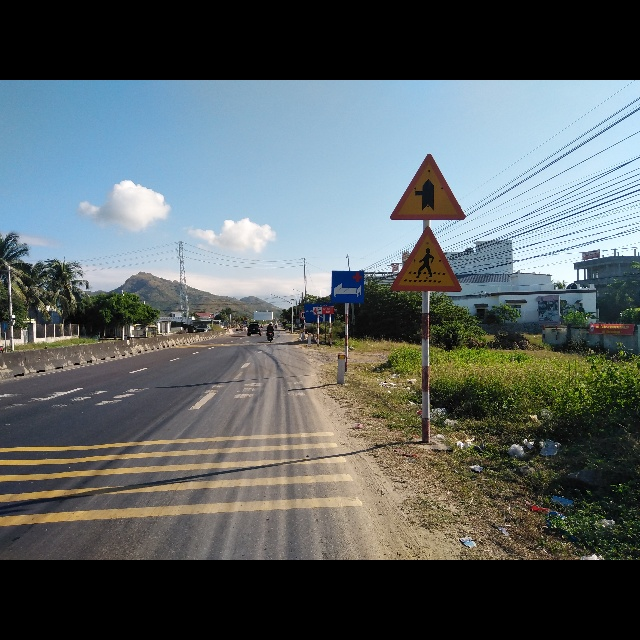Bệnh viện: (332, 270, 365, 306)
Giao nhau với đường không ưu tiên: (388, 151, 464, 221)
Đường người đi bộ sang đường: (388, 229, 462, 295)
